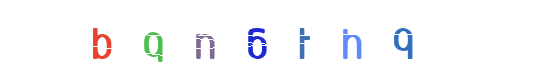6: (215, 0, 295, 80)
9: (305, 0, 385, 80)
B: (60, 0, 140, 80)
H: (278, 0, 358, 80)
N: (164, 0, 244, 80)
Q: (114, 0, 194, 80)
T: (228, 0, 308, 80)
